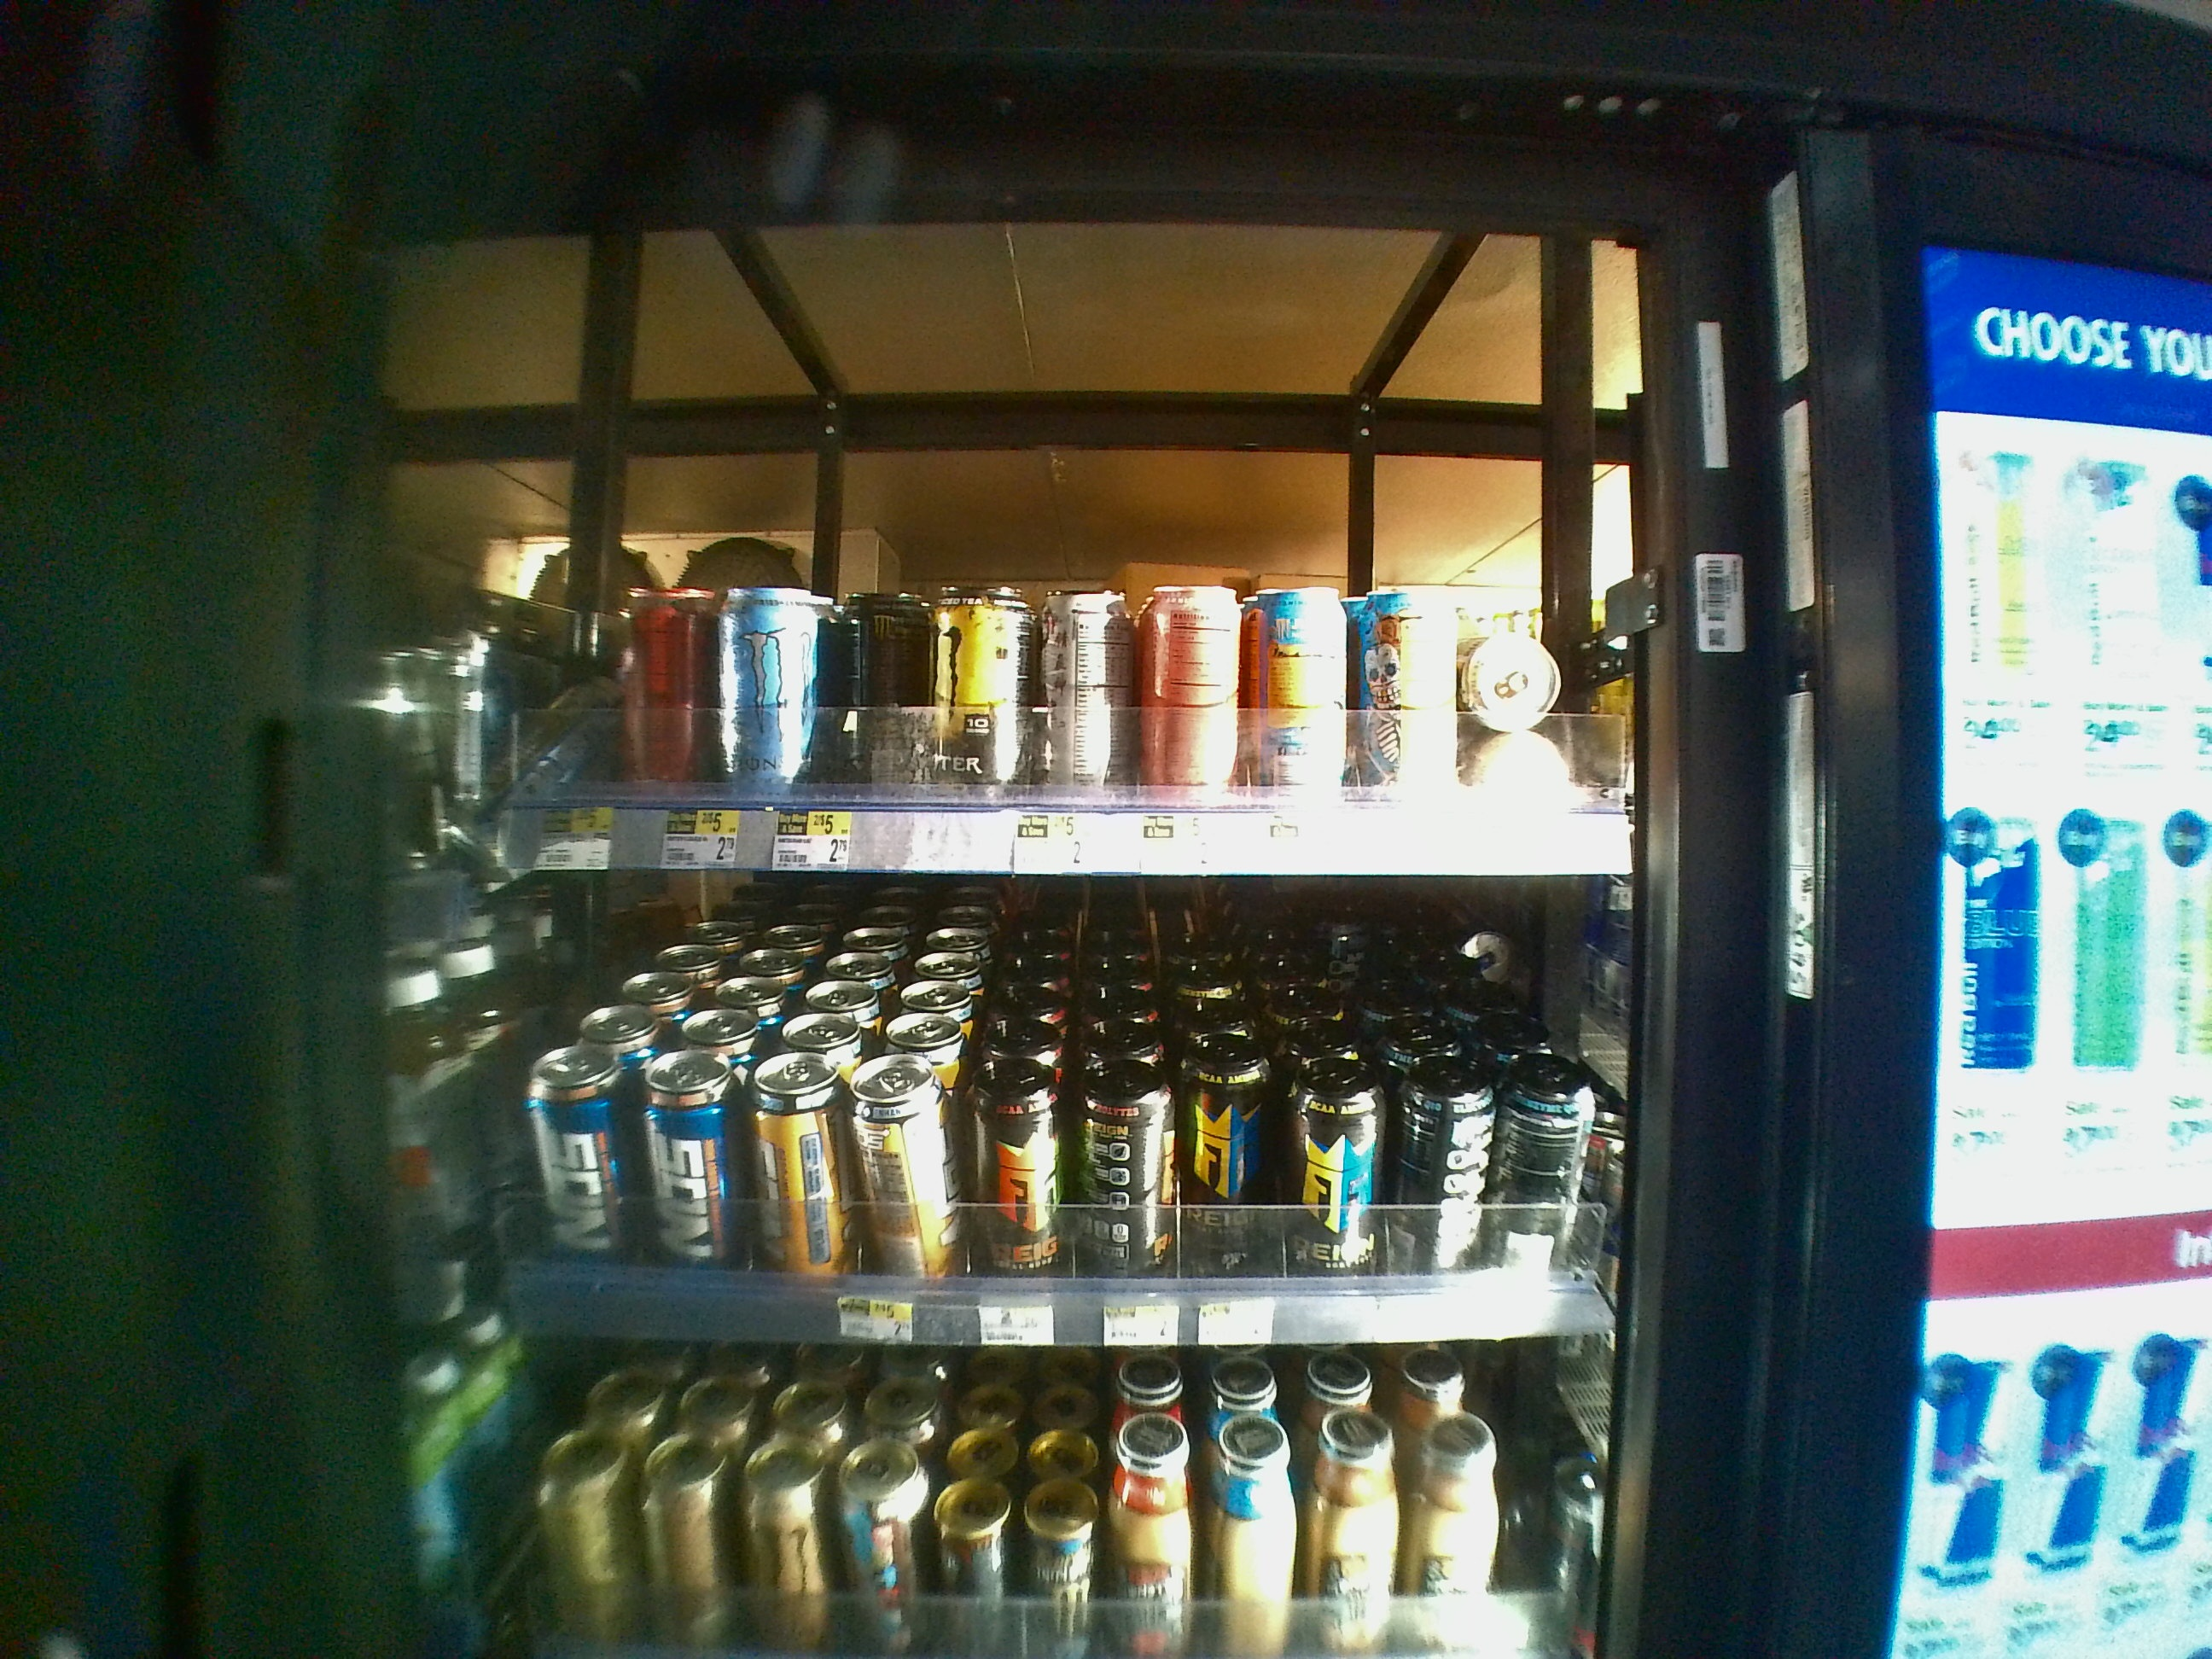shelf: (385, 234, 1662, 878), (392, 866, 1669, 1349)
